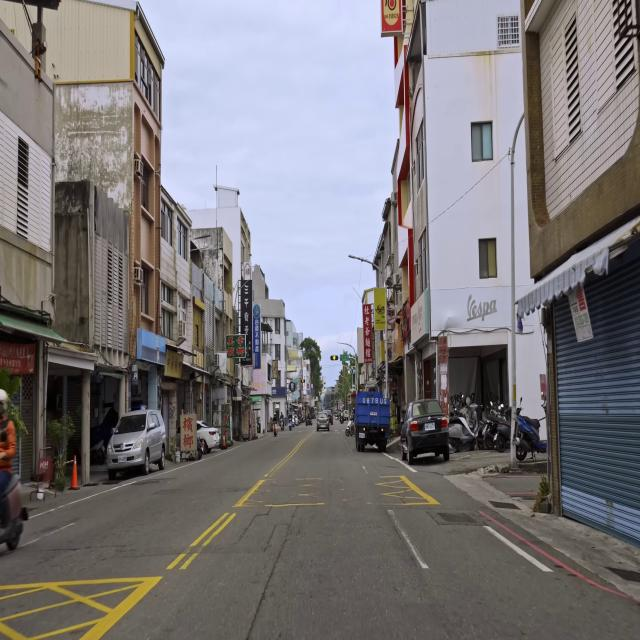yellow light: (330, 354, 339, 360), (300, 379, 306, 383)
